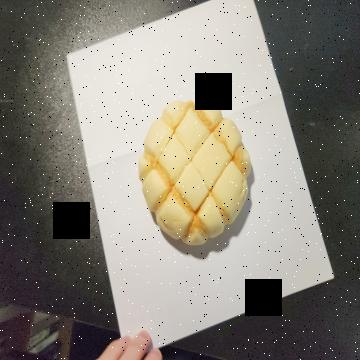melon_bread: (135, 97, 254, 250)
